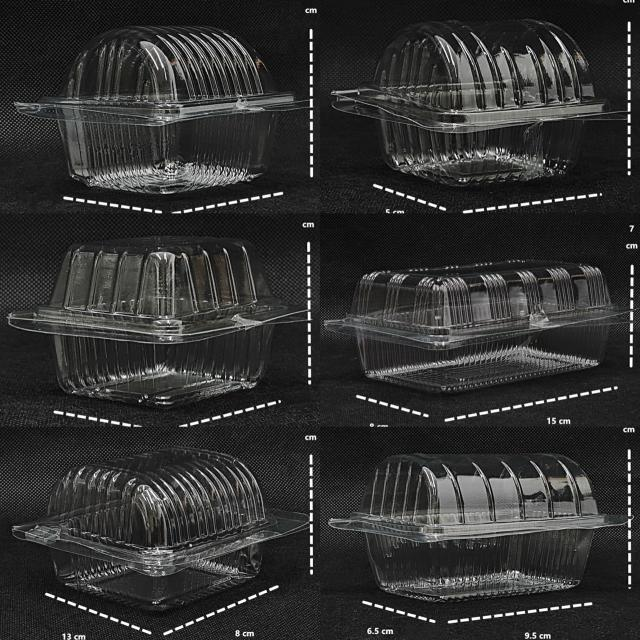Single-Use-Plastic: (9, 238, 305, 407), (16, 28, 304, 194), (13, 448, 308, 610), (333, 20, 617, 185), (329, 454, 625, 601), (327, 261, 627, 392)
